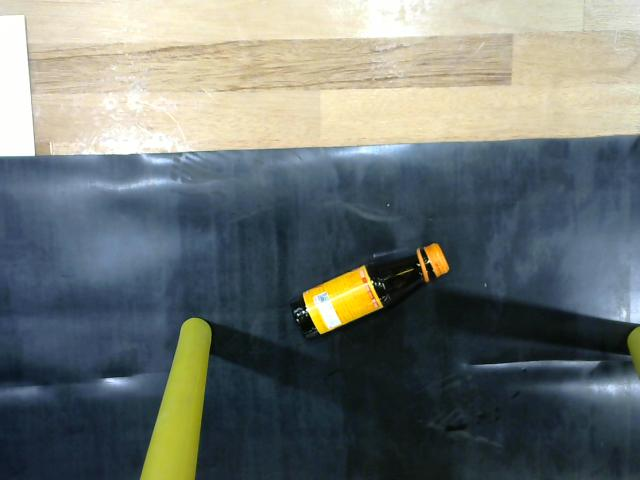glass: (286, 238, 454, 350)
